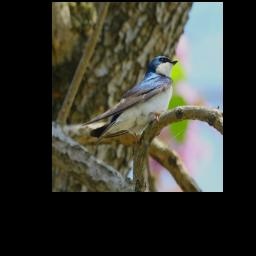Swallow: (81, 55, 178, 148)
